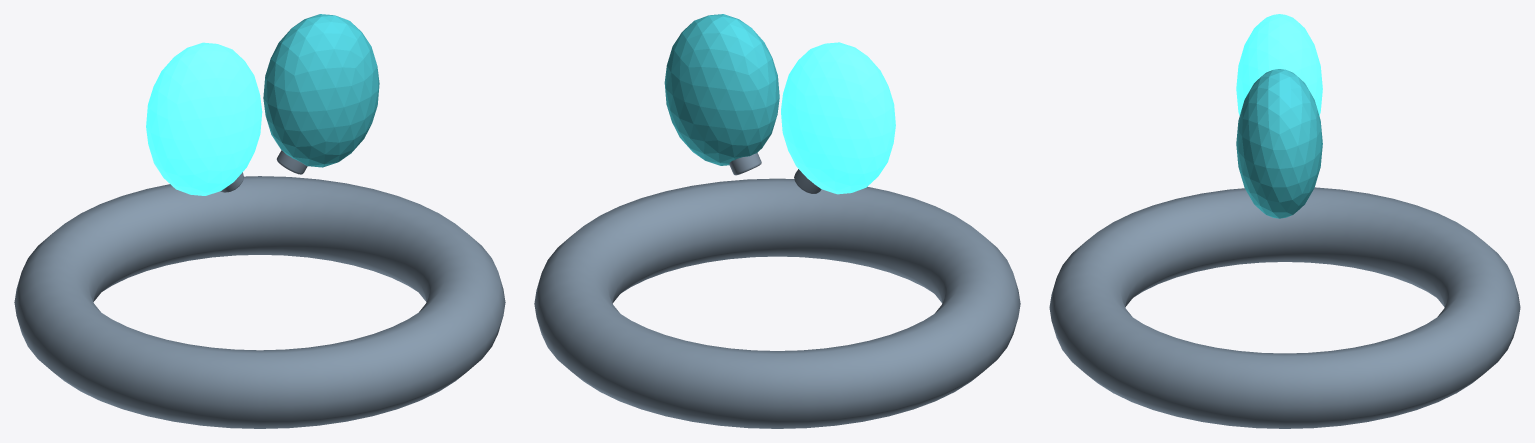
The model's file is ring_v3.glb.
The picture shows the model from 3 angles, left to right: view 1: azimuth 30°, elevation 25°; view 2: azimuth 150°, elevation 25°; view 3: azimuth 270°, elevation 25°; orthographic projection. The views are drawn at different scales.
Visible parts, largest first — view 1: RING_BAND_PRIMARY, TWIN_STONE_EMISSIVE, TWIN_STONE_ACCENT; view 2: RING_BAND_PRIMARY, TWIN_STONE_EMISSIVE, TWIN_STONE_ACCENT; view 3: RING_BAND_PRIMARY, TWIN_STONE_ACCENT, TWIN_STONE_EMISSIVE.
Part boxes in pixels (x1,y1,x2,y2): RING_BAND_PRIMARY: (14, 176, 505, 428); TWIN_STONE_EMISSIVE: (146, 42, 262, 195); TWIN_STONE_ACCENT: (263, 14, 379, 167); RING_BAND_PRIMARY: (534, 178, 1020, 428); TWIN_STONE_EMISSIVE: (781, 42, 895, 194); TWIN_STONE_ACCENT: (664, 14, 779, 165); RING_BAND_PRIMARY: (1049, 187, 1520, 428); TWIN_STONE_ACCENT: (1236, 69, 1322, 218); TWIN_STONE_EMISSIVE: (1236, 14, 1322, 115).
Bounding box in the file's own units: 1.74 × 1.21 × 1.74.
